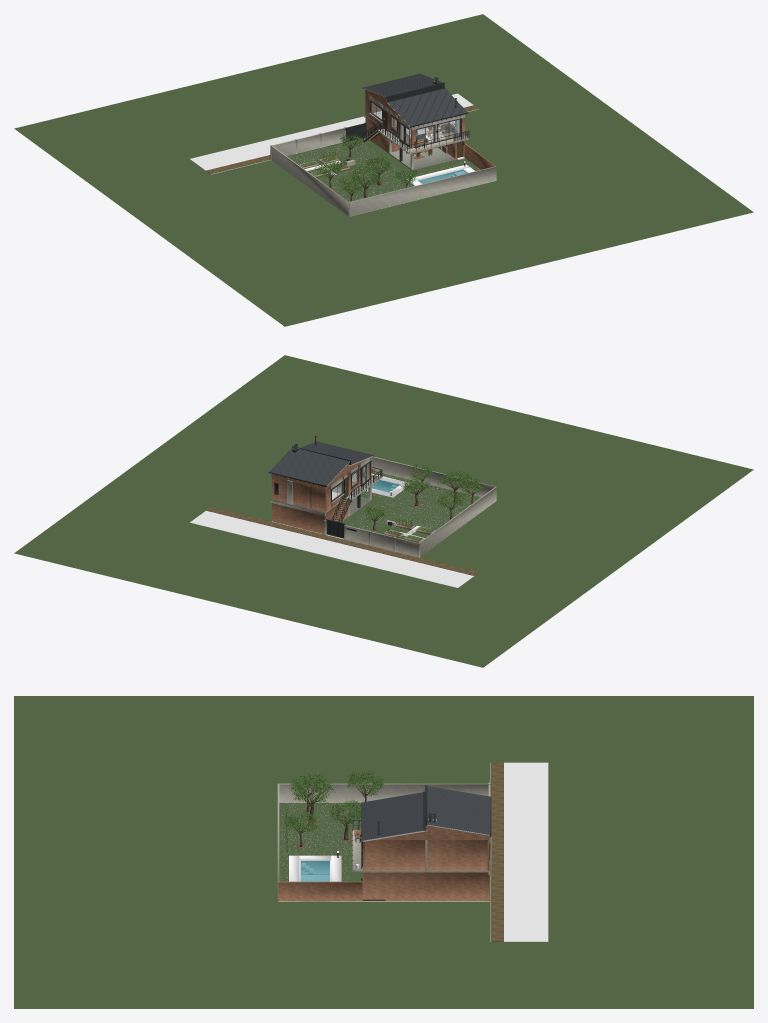
File: house.glb
3 renders of one model, top to bottom at view 1: azimuth 30°, elevation 25°; view 2: azimuth 150°, elevation 25°; view 3: azimuth 270°, elevation 25°, orthographic. The views are drawn at different scales.
Parts seen in each view (by area): view 1: Entorno exterior, Césped del lote, Medianera posterior, Calle Cedro Misionero, Cubierta pendiente pileta, Medianera izquierda, Muro frontal izquierdo, Cubierta pendiente Cedro Misionero, Piso quincho; view 2: Entorno exterior, Calle Cedro Misionero, Césped del lote, Cubierta pendiente Cedro Misionero, Banquina, Medianera posterior, Medianera izquierda, Fachada superior opaca, Muro frontal izquierdo, Fachada ciega de ladrillo, Cubierta pendiente pileta; view 3: Entorno exterior, Calle Cedro Misionero, Césped del lote, Medianera constructiva baja, Medianera izquierda, Banquina, Cubierta pendiente Cedro Misionero, Cubierta pendiente pileta, Medianera alta estudio, Medianera alta vivienda, Medianera derecha posterior, Frontón medianera derecha (+4 smaller).
Boxes of the visible parts, <box> form: Entorno exterior: <box>14,14,753,326</box>; Césped del lote: <box>287,137,480,201</box>; Medianera posterior: <box>349,166,496,216</box>; Calle Cedro Misionero: <box>190,93,478,174</box>; Cubierta pendiente pileta: <box>386,88,467,126</box>; Medianera izquierda: <box>271,146,348,216</box>; Muro frontal izquierdo: <box>273,128,344,155</box>; Cubierta pendiente Cedro Misionero: <box>363,74,442,96</box>; Piso quincho: <box>390,147,454,169</box>; Entorno exterior: <box>14,355,753,667</box>; Calle Cedro Misionero: <box>190,510,473,587</box>; Césped del lote: <box>326,471,480,539</box>; Cubierta pendiente Cedro Misionero: <box>270,447,349,485</box>; Banquina: <box>206,507,478,575</box>; Medianera posterior: <box>364,457,496,496</box>; Medianera izquierda: <box>419,487,496,556</box>; Fachada superior opaca: <box>271,477,325,511</box>; Muro frontal izquierdo: <box>346,525,417,557</box>; Fachada ciega de ladrillo: <box>271,503,325,533</box>; Cubierta pendiente pileta: <box>301,441,373,464</box>; Entorno exterior: <box>14,696,753,1008</box>; Calle Cedro Misionero: <box>490,762,548,941</box>; Césped del lote: <box>279,803,362,881</box>; Medianera constructiva baja: <box>363,872,489,901</box>; Medianera izquierda: <box>279,783,488,802</box>; Banquina: <box>490,762,503,941</box>; Cubierta pendiente Cedro Misionero: <box>427,786,490,834</box>; Cubierta pendiente pileta: <box>362,792,426,840</box>; Medianera alta estudio: <box>427,840,487,870</box>; Medianera alta vivienda: <box>365,840,425,870</box>; Medianera derecha posterior: <box>278,881,362,901</box>; Frontón medianera derecha: <box>376,825,489,839</box>.
Size of the model in its own units: 70 by 10.47 by 70.
Materials: 36 (8 with a texture image).
